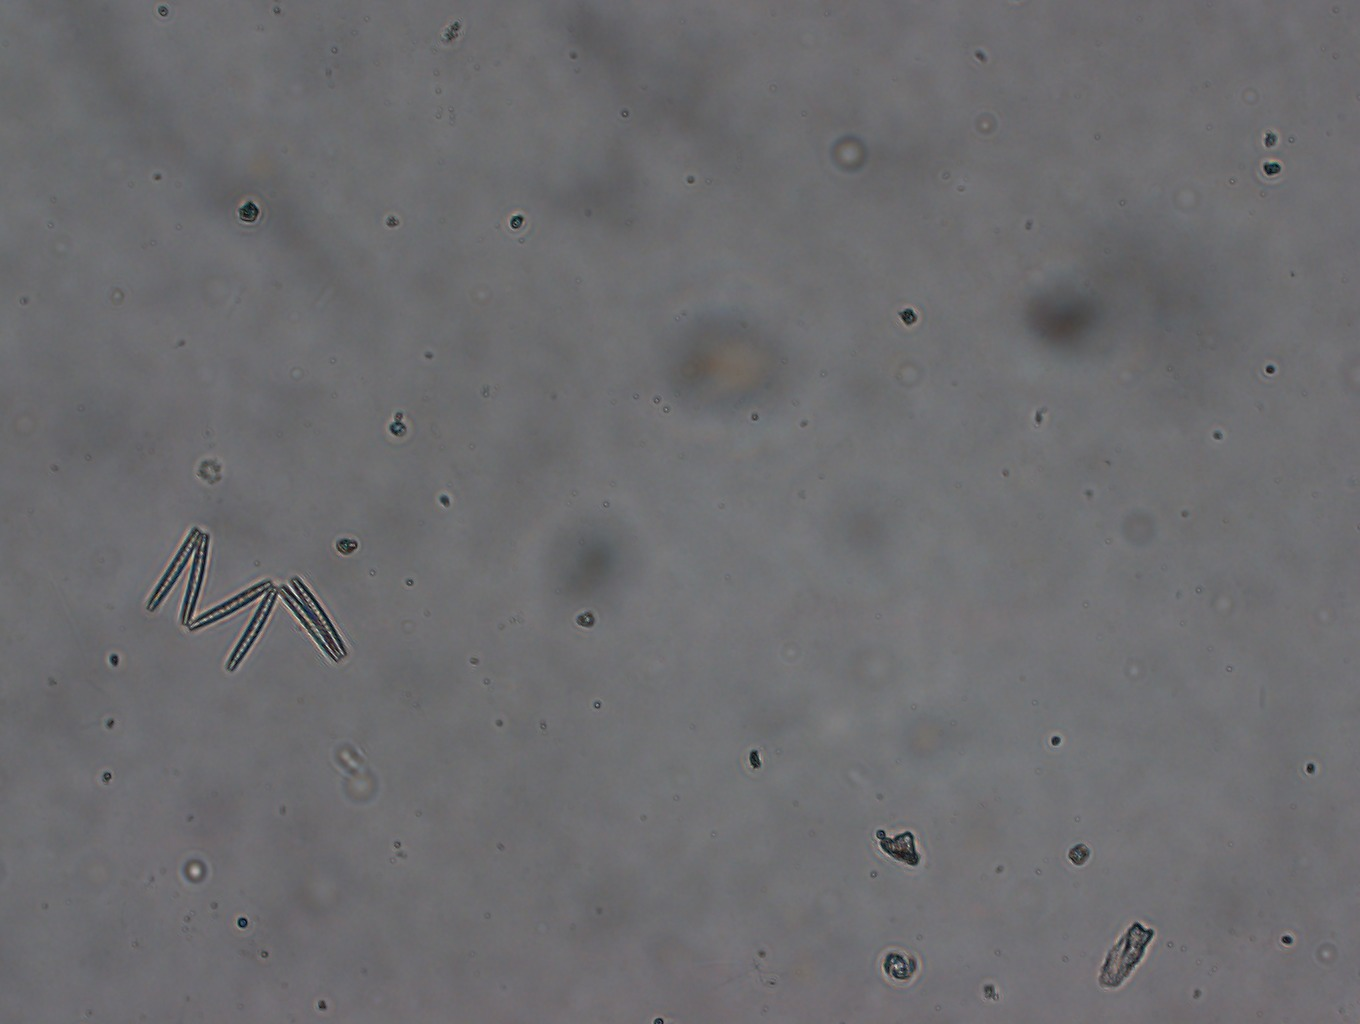thalassionema nitzschioides: (145, 525, 348, 673)
